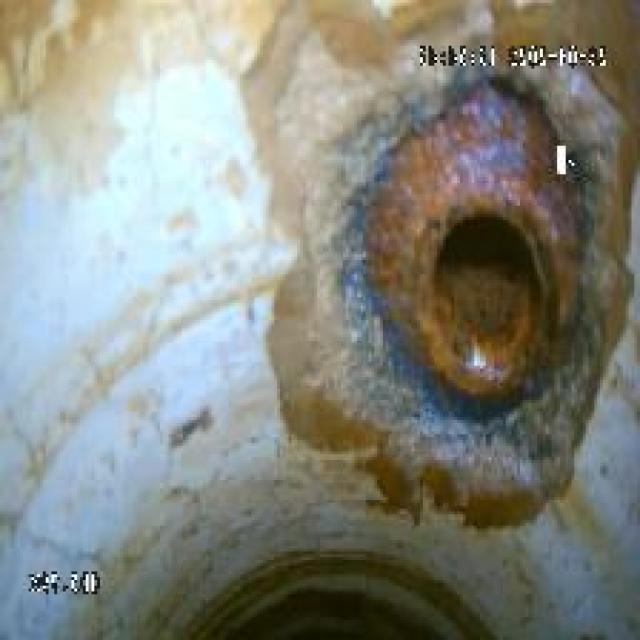ferrule: (369, 125, 580, 408)
